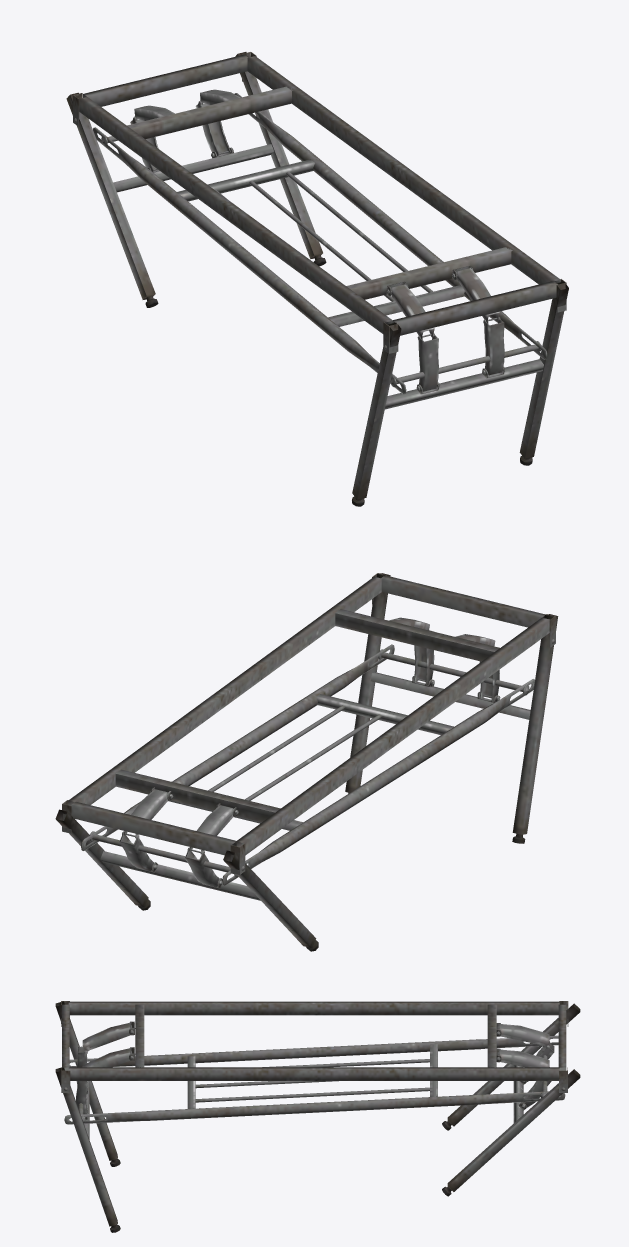
Rendered from 003_FoldingTable.fbx.
3 renders of one model, top to bottom at view 1: azimuth 30°, elevation 25°; view 2: azimuth 150°, elevation 25°; view 3: azimuth 270°, elevation 25°, orthographic. The views are drawn at different scales.
Parts seen in each view (by area): view 1: LOD_1_Group_0_Sub_1__sm30_043_FoldingTable03A_A_Mat; view 2: LOD_1_Group_0_Sub_1__sm30_043_FoldingTable03A_A_Mat; view 3: LOD_1_Group_0_Sub_1__sm30_043_FoldingTable03A_A_Mat.
Boxes of the visible parts, x1=… form: LOD_1_Group_0_Sub_1__sm30_043_FoldingTable03A_A_Mat: x1=66, y1=52, x2=568, y2=506; LOD_1_Group_0_Sub_1__sm30_043_FoldingTable03A_A_Mat: x1=55, y1=573, x2=558, y2=951; LOD_1_Group_0_Sub_1__sm30_043_FoldingTable03A_A_Mat: x1=55, y1=1001, x2=580, y2=1232.
Size of the model in its own units: 0.7692 by 0.6969 by 2.19.
